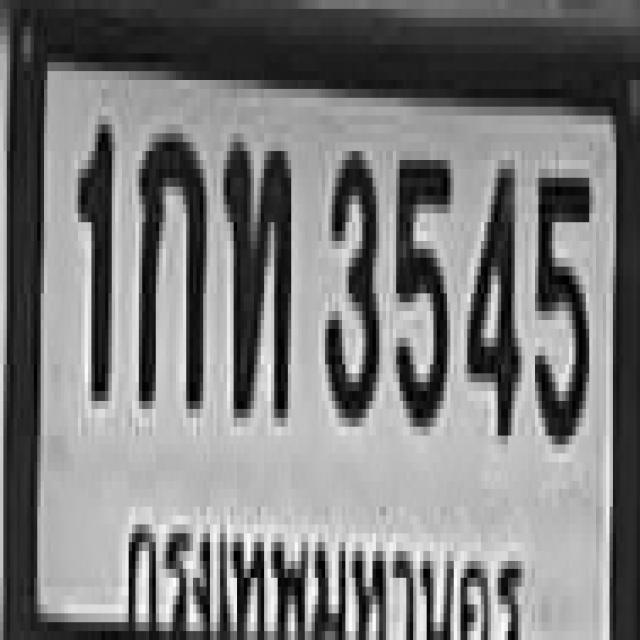1: (74, 116, 108, 391)
10GorGai: (136, 124, 203, 400)
3: (322, 142, 376, 418)
32ThorThaHan: (223, 133, 288, 409)
4: (464, 156, 515, 431)
5: (532, 169, 589, 435), (393, 151, 447, 418)
Bangkok: (119, 480, 522, 640)
